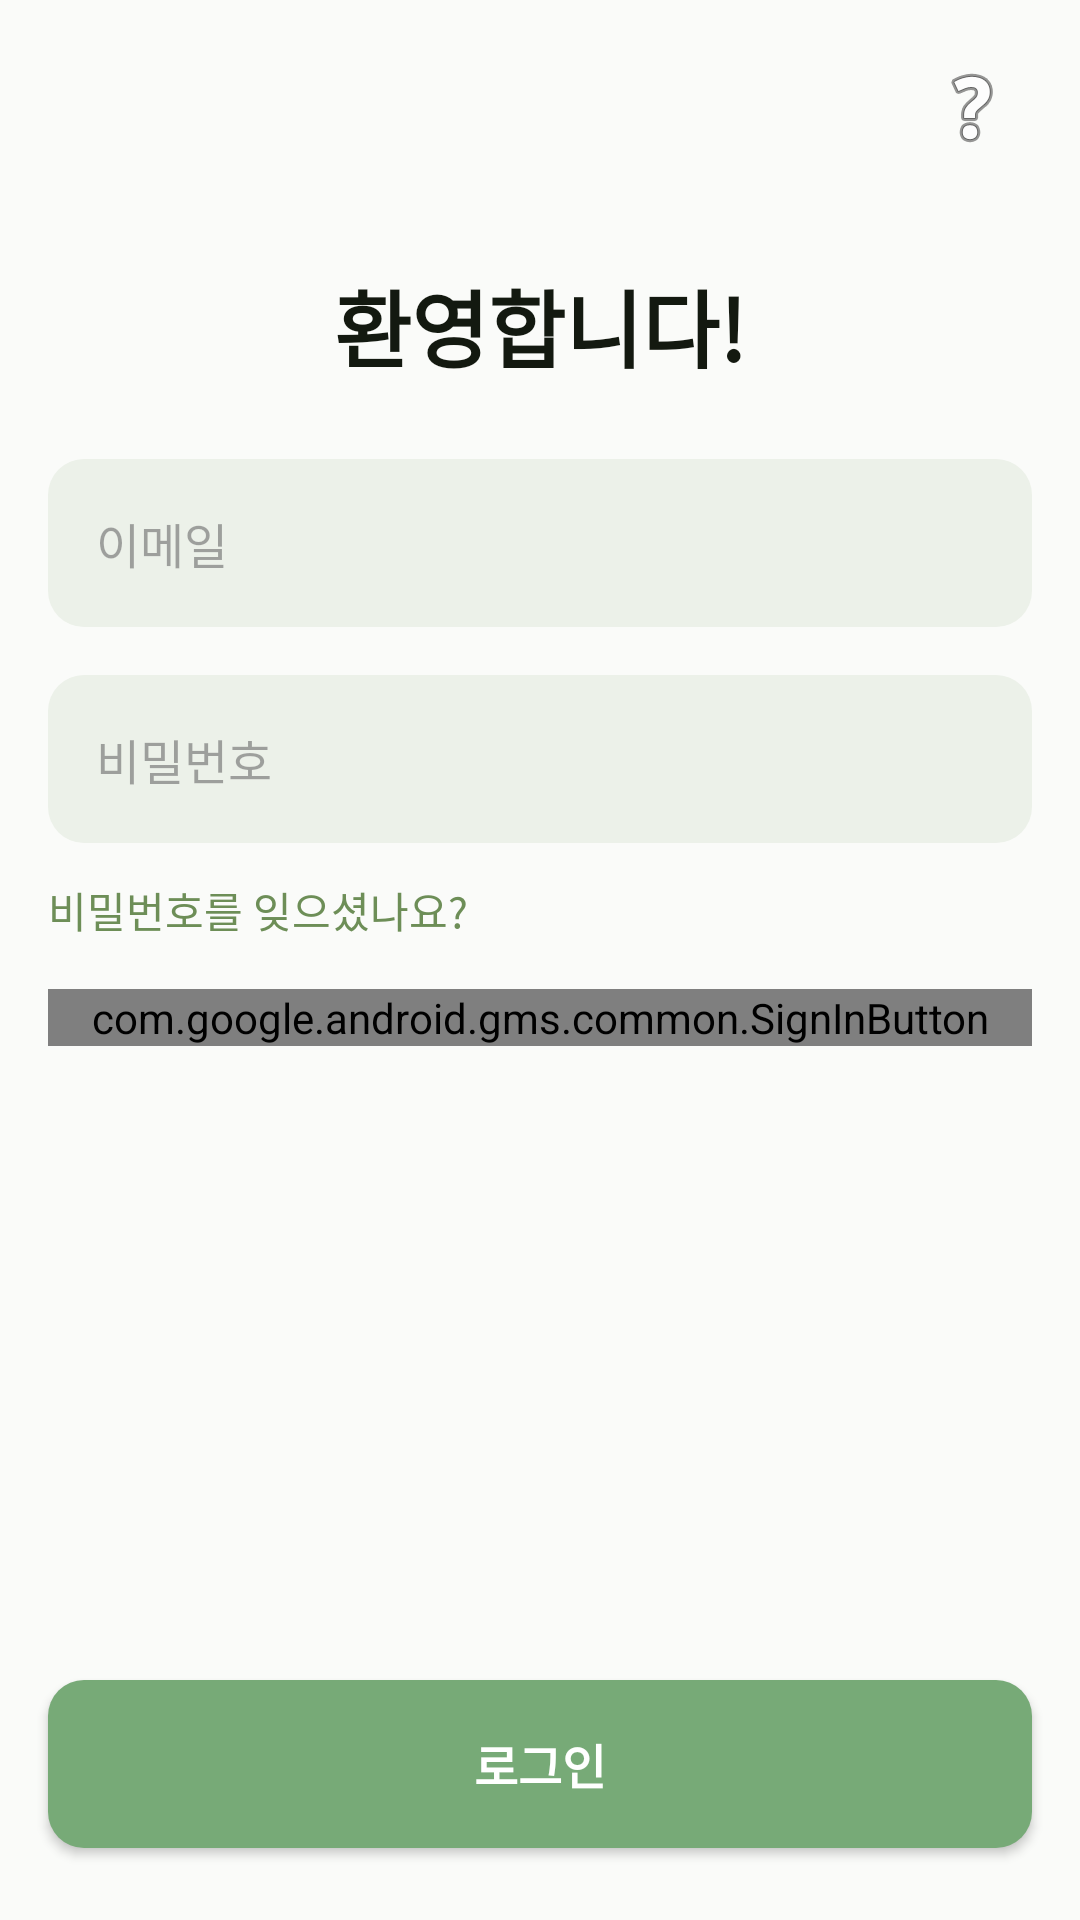

Screen size 1080*1920. Icon name, then its box in pixels as (x1, y1, x2, y2):
Help: (951, 74, 993, 142)
